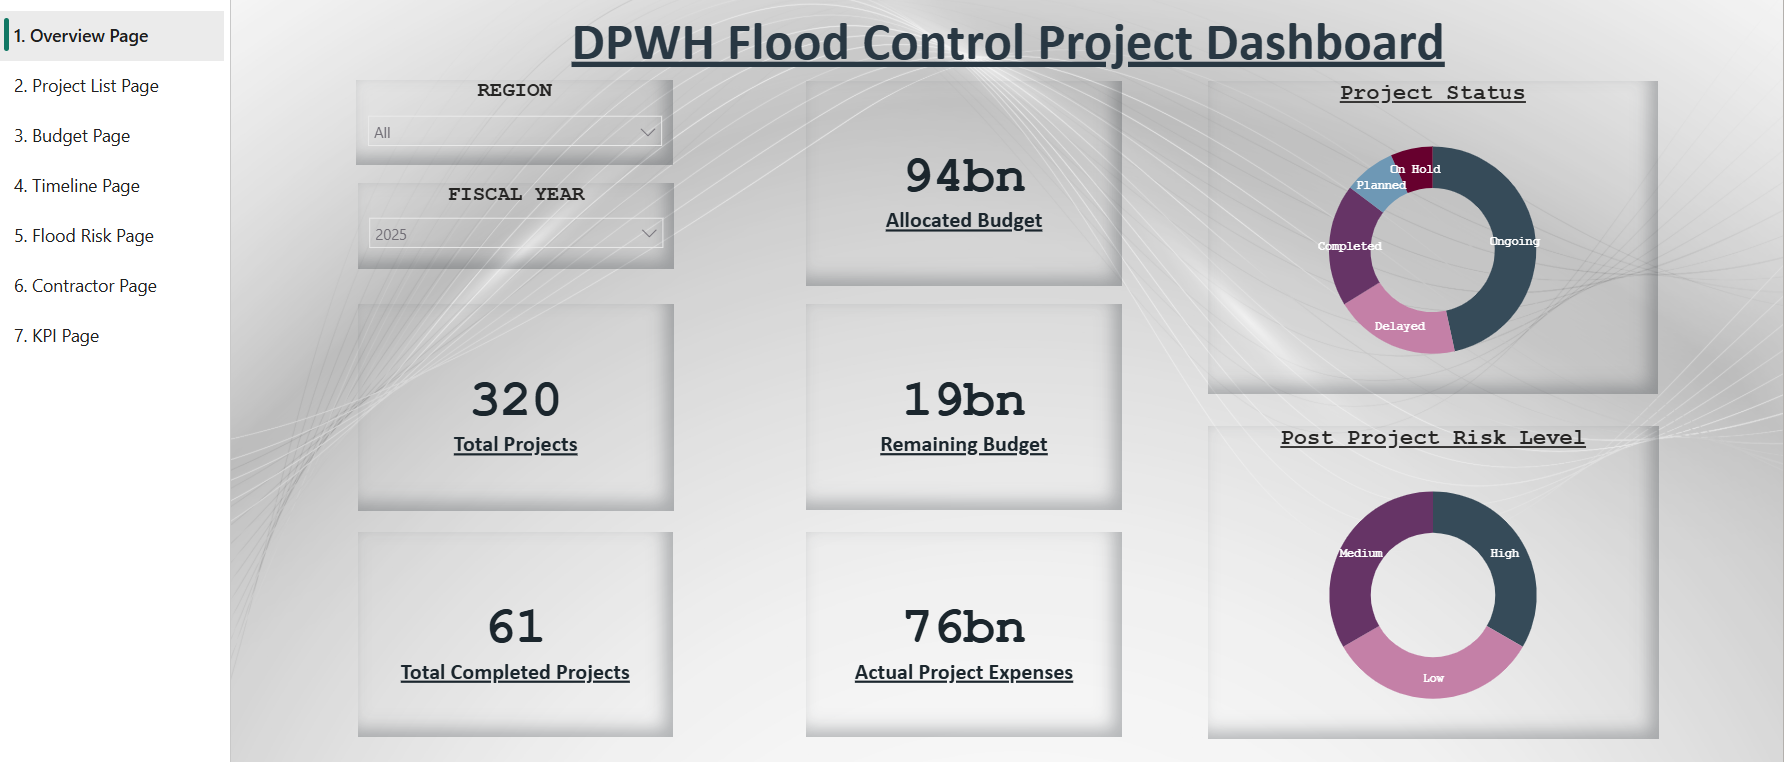

The dashboard page shown, as its layout file describes it:
{"tool":"powerbi","page":{"name":"1. Overview Page","canvas":[1280,700],"ordinal":0},"visuals":[{"type":"textbox","box":[52.5,9.7,1175,70],"z":0},{"type":"card","fields":{"Values":["KPI_Summary.sumtotal projects"]},"box":[52.9,282.1,285.6,186],"z":1000},{"type":"card","fields":{"Values":["KPI_Summary.totalcompletedprojs"]},"box":[52.5,488.3,285,185.8],"z":2000},{"type":"donutChart","title":"Project Status","fields":{"Category":["Project_List.Project_Status"],"Y":["CountNonNull(Project_List.Project_ID)"]},"box":[820.9,79.8,406.6,283],"z":3000},{"type":"card","fields":{"Values":["Budget_Allocation.Total Allocated Budget"]},"box":[458.1,79.8,285,185.8],"z":4000},{"type":"card","fields":{"Values":["Budget_Allocation.total remaining bal"]},"box":[458.1,282.1,285,185.8],"z":5000},{"type":"card","fields":{"Values":["Budget_Allocation.total actual expenses"]},"box":[458.1,488.3,285,185.8],"z":6000},{"type":"slicer","title":"REGION","fields":{"Values":["KPI_Summary.Region"]},"box":[52,79.3,285.6,77.6],"z":7000},{"type":"slicer","title":"FISCAL YEAR","fields":{"Values":["Budget_Allocation.Fiscal_Year"]},"box":[52.9,172.8,285.6,77.6],"z":8000},{"type":"donutChart","title":"Post Project Risk Level","fields":{"Y":["CountNonNull(Project_List.Project_ID)"],"Category":["Flood_Risk_Data.Post_Project_Risk_Level"]},"box":[820.8,391.4,407.3,283],"z":9000}]}

Visuals, with their boxes on the page's 1280x700 design canvas (x1, y1, x2, y2). These are canvas units, not pixel positions in the 1785x762 screenshot, which may show the page scaled, cropped or inside an application window:
textbox: [x1=52, y1=10, x2=1228, y2=80]
card - KPI_Summary.sumtotal projects: [x1=53, y1=282, x2=338, y2=468]
card - KPI_Summary.totalcompletedprojs: [x1=52, y1=488, x2=338, y2=674]
"Project Status" donutChart: [x1=821, y1=80, x2=1228, y2=363]
card - Budget_Allocation.Total Allocated Budget: [x1=458, y1=80, x2=743, y2=266]
card - Budget_Allocation.total remaining bal: [x1=458, y1=282, x2=743, y2=468]
card - Budget_Allocation.total actual expenses: [x1=458, y1=488, x2=743, y2=674]
"REGION" slicer: [x1=52, y1=79, x2=338, y2=157]
"FISCAL YEAR" slicer: [x1=53, y1=173, x2=338, y2=250]
"Post Project Risk Level" donutChart: [x1=821, y1=391, x2=1228, y2=674]
